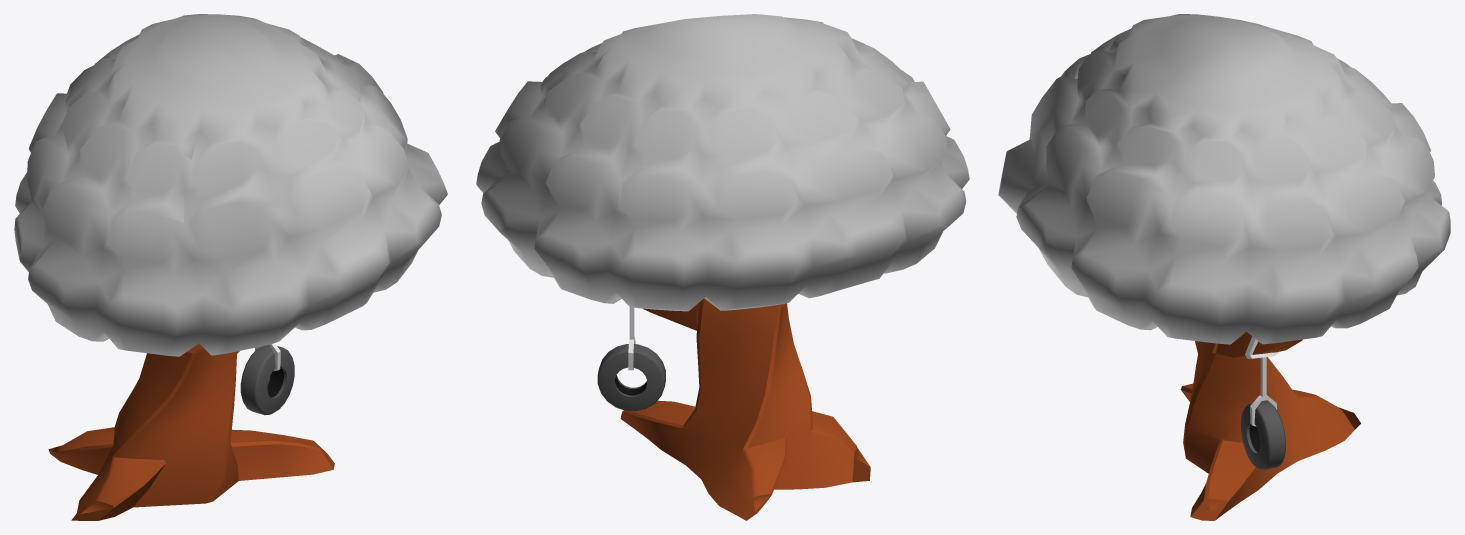
The model's file is TreeFun.fbx.
3 views of the same model, side by side, from view 1: azimuth 30°, elevation 25°; view 2: azimuth 150°, elevation 25°; view 3: azimuth 270°, elevation 25° (orthographic). The views are drawn at different scales.
Visible parts, largest first — view 1: TreeFun_LOD0; view 2: TreeFun_LOD0; view 3: TreeFun_LOD0.
Boxes of the visible parts, box(x1,y1,x2,y2) form: TreeFun_LOD0: box(14, 14, 447, 520); TreeFun_LOD0: box(476, 14, 969, 520); TreeFun_LOD0: box(998, 14, 1450, 520).
Size of what is drawn, in the model's own units: 1069 by 1064 by 1018.
